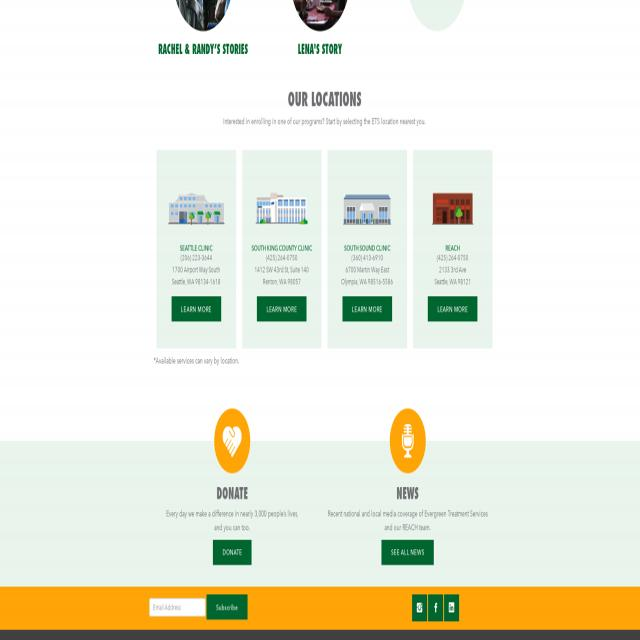button: (165, 177, 228, 242), (251, 177, 313, 242), (336, 177, 398, 242), (422, 177, 484, 242), (214, 408, 250, 479), (388, 408, 426, 475), (173, 0, 233, 42), (290, 0, 350, 42), (407, 0, 467, 42), (172, 296, 222, 321), (257, 296, 307, 321), (342, 296, 392, 321), (428, 296, 478, 321), (382, 540, 434, 564), (206, 594, 248, 620), (213, 540, 252, 564), (412, 594, 428, 622), (428, 594, 444, 622), (444, 594, 460, 622)
field: (149, 598, 206, 616)
